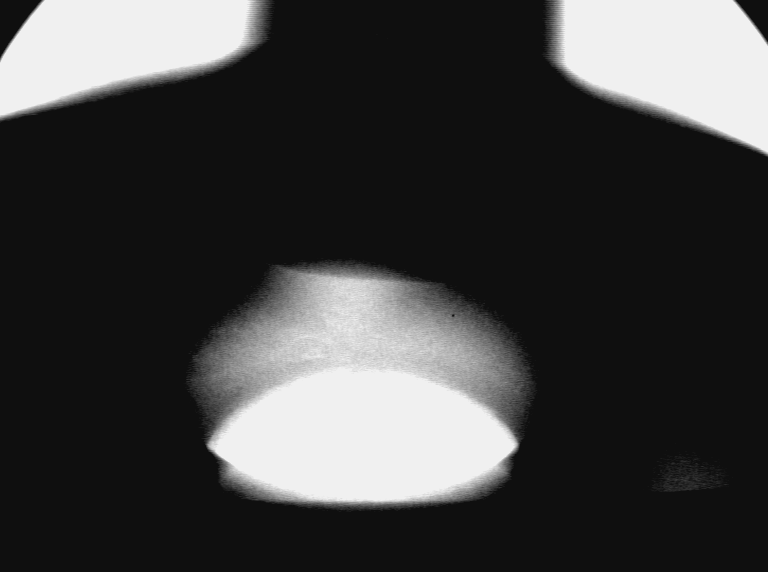defect: (175, 320, 336, 386)
